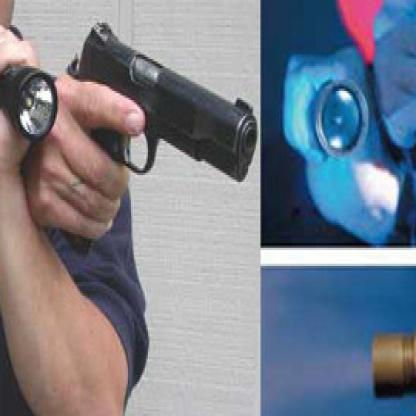gun: (60, 7, 260, 225)
